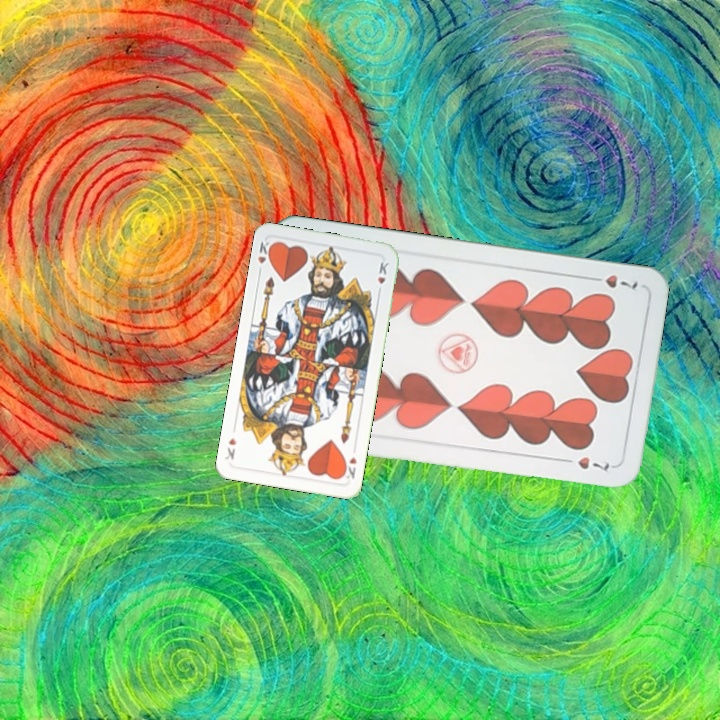H7: (584, 270, 641, 294)
HK: (254, 237, 276, 277), (339, 453, 359, 483)
